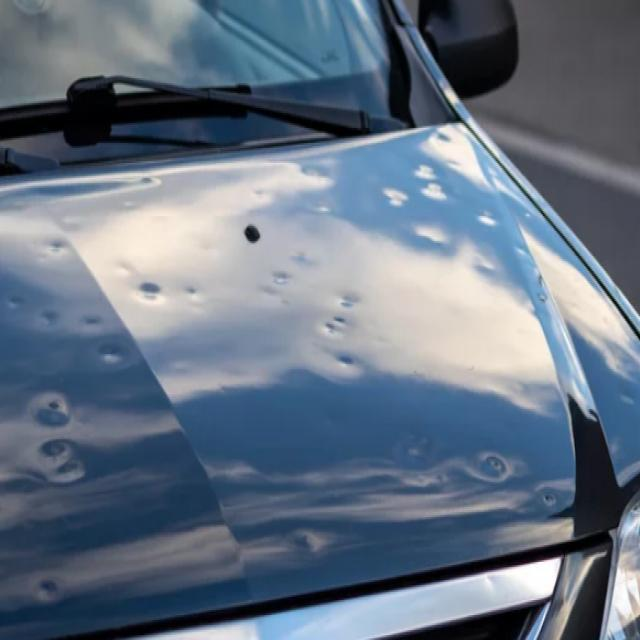dents: (28, 439, 118, 501), (284, 514, 339, 578), (331, 342, 379, 406), (25, 383, 83, 433), (472, 439, 512, 504), (34, 568, 74, 621), (108, 172, 163, 210), (134, 275, 174, 322), (133, 265, 171, 310), (96, 329, 125, 385), (538, 487, 571, 533), (332, 288, 370, 326), (470, 248, 500, 295), (43, 240, 83, 272), (412, 219, 446, 256), (474, 202, 506, 241), (380, 173, 407, 219), (182, 277, 212, 317), (79, 298, 106, 342), (268, 260, 300, 292), (0, 281, 25, 320), (36, 308, 63, 343), (137, 277, 163, 311), (433, 128, 463, 154)
